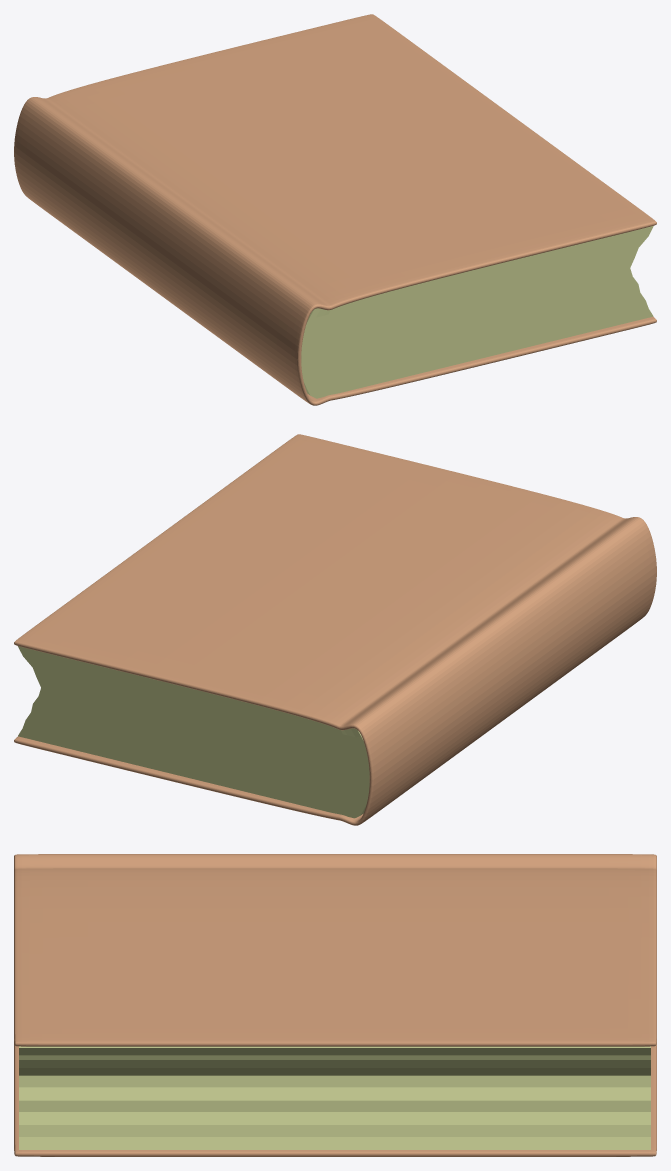
Rendered from book1.fbx.
3 views of the same model, one above another, from view 1: azimuth 30°, elevation 25°; view 2: azimuth 150°, elevation 25°; view 3: azimuth 270°, elevation 25° (orthographic). The views are drawn at different scales.
Visible parts, largest first — view 1: Plane, Plane.001; view 2: Plane, Plane.001; view 3: Plane, Plane.001.
Part boxes in pixels (x1=…): Plane: x1=14, y1=14, x2=656, y2=405; Plane.001: x1=301, y1=226, x2=653, y2=398; Plane: x1=14, y1=434, x2=656, y2=825; Plane.001: x1=18, y1=646, x2=369, y2=818; Plane: x1=14, y1=854, x2=656, y2=1156; Plane.001: x1=19, y1=1046, x2=650, y2=1149.
Bounding box in the file's own units: 146 × 39.76 × 200.
